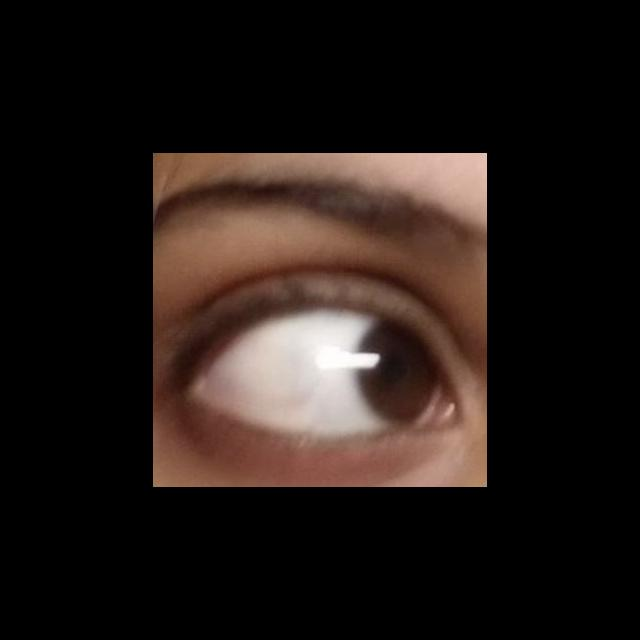eye: (194, 307, 441, 437)
iris: (359, 317, 434, 433)
